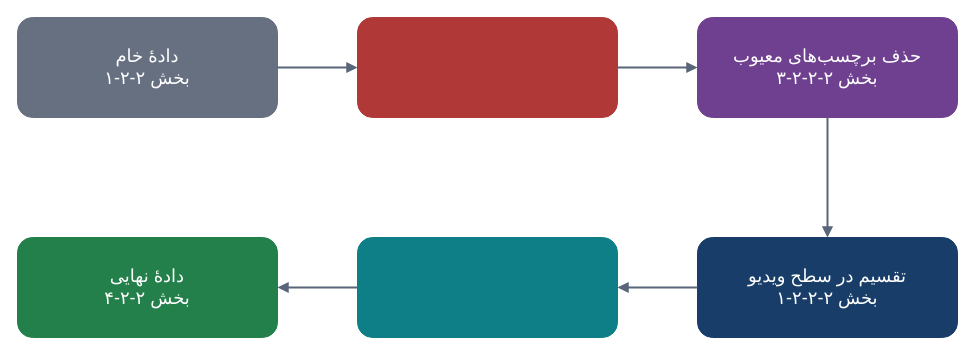
Some shapes in this 975 by 355 pixel diagram are drawn without their labels. Here are the shapes that lost their labels. From the top down, the centre of each, then its label:
point (487, 67): حذف ویدیوهای تکراری بخش ۲-۲-۲-۲
point (487, 287): نمونه‌گیری با حفظ رده‌های نادر بخش ۲-۲-۳
